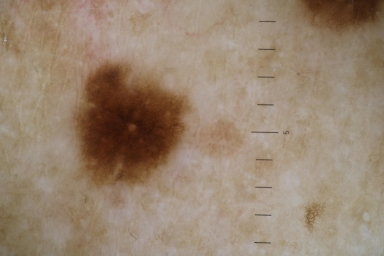melanoma: (77, 63, 187, 180)
